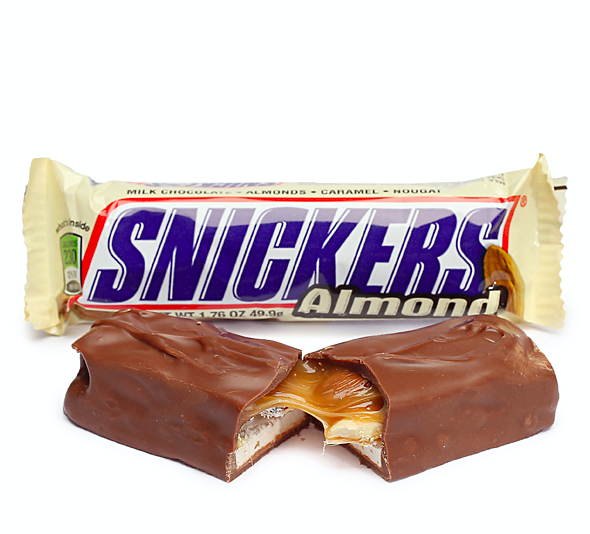snickers: (88, 206, 508, 299)
